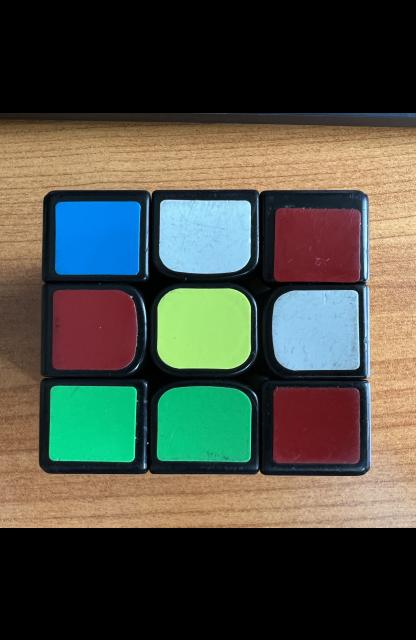Blue: (54, 201, 140, 273)
Green: (157, 385, 252, 461), (49, 385, 137, 461)
Red: (52, 289, 137, 369), (273, 386, 360, 463), (274, 207, 360, 281)
White: (272, 289, 360, 370), (159, 199, 252, 272)
Yellow: (157, 288, 252, 369)
